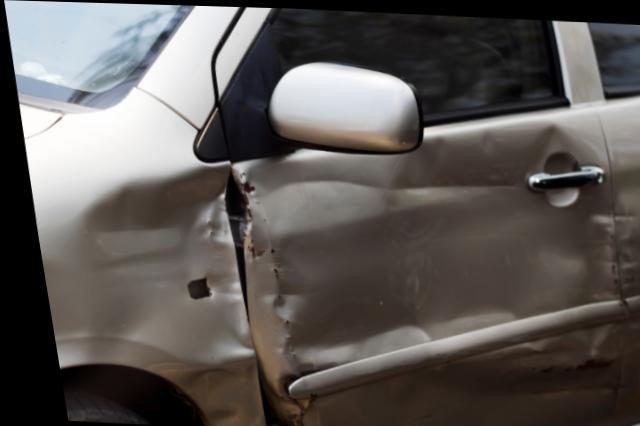dent: (245, 125, 630, 359), (31, 160, 252, 426), (302, 363, 606, 426)
